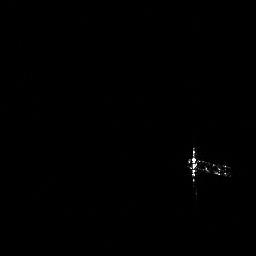ship: (183, 143, 233, 186)
